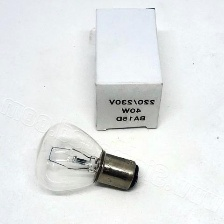carton: (89, 5, 165, 133)
light_bulb: (30, 119, 142, 195)
